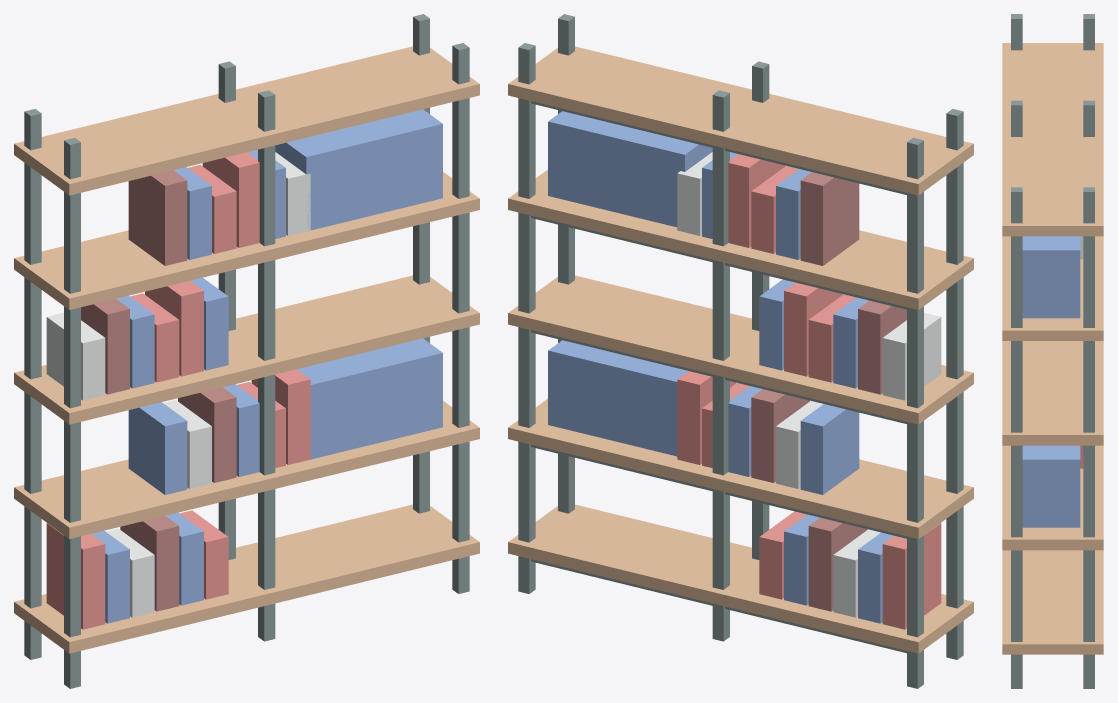
The model's file is bookcaseIndustrial.glb.
3 views of the same model, side by side, from view 1: azimuth 30°, elevation 25°; view 2: azimuth 150°, elevation 25°; view 3: azimuth 270°, elevation 25° (orthographic). The views are drawn at different scales.
Parts seen in each view (by area): view 1: bookcaseIndustrial; view 2: bookcaseIndustrial; view 3: bookcaseIndustrial.
Boxes of the visible parts, x1=… form: bookcaseIndustrial: x1=14, y1=14, x2=479, y2=688; bookcaseIndustrial: x1=508, y1=14, x2=973, y2=688; bookcaseIndustrial: x1=1002, y1=14, x2=1103, y2=688.
Bounding box in the file's own units: 0.75 × 0.95 × 0.175.
